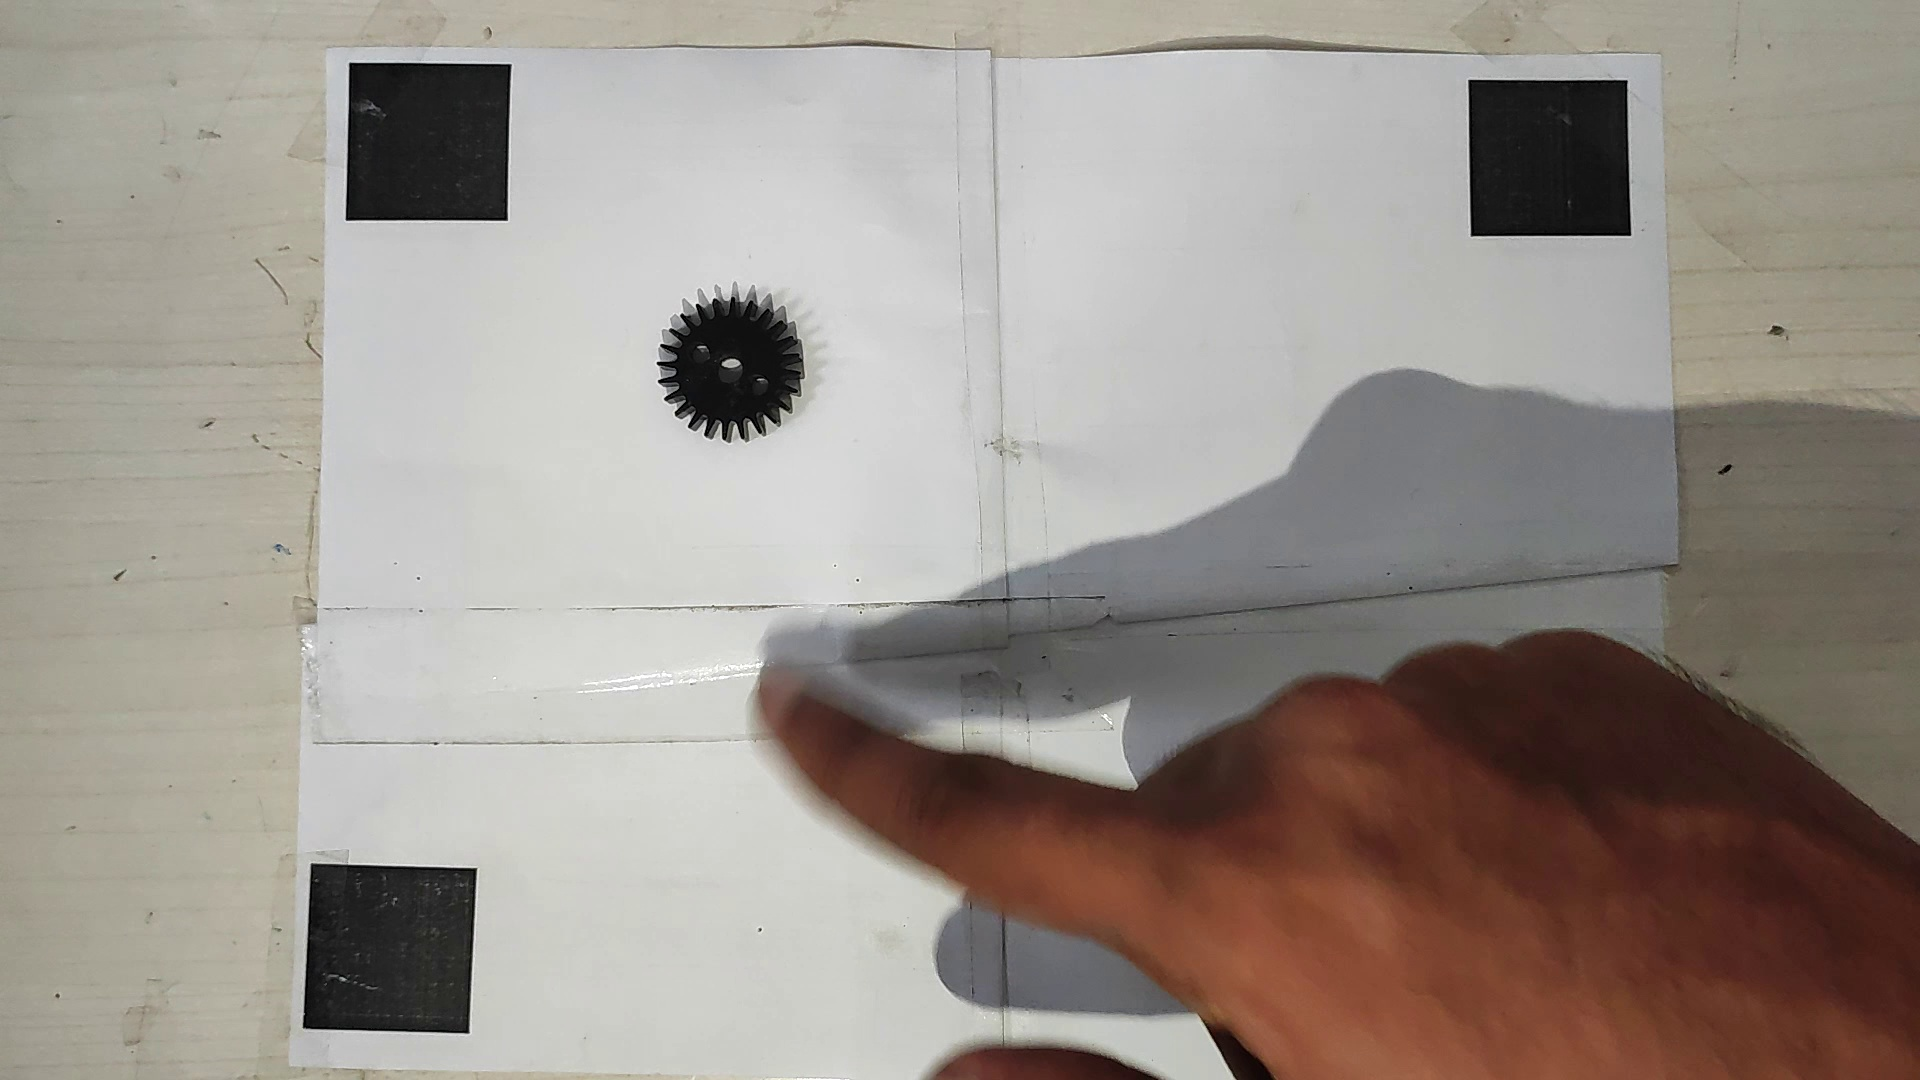Gear: (649, 287, 804, 443)
